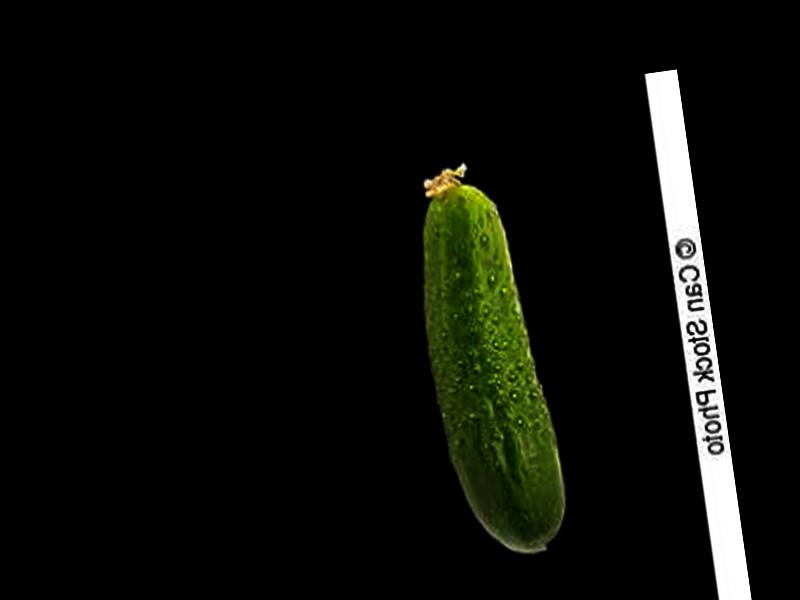Cucumber: (402, 154, 572, 564)
